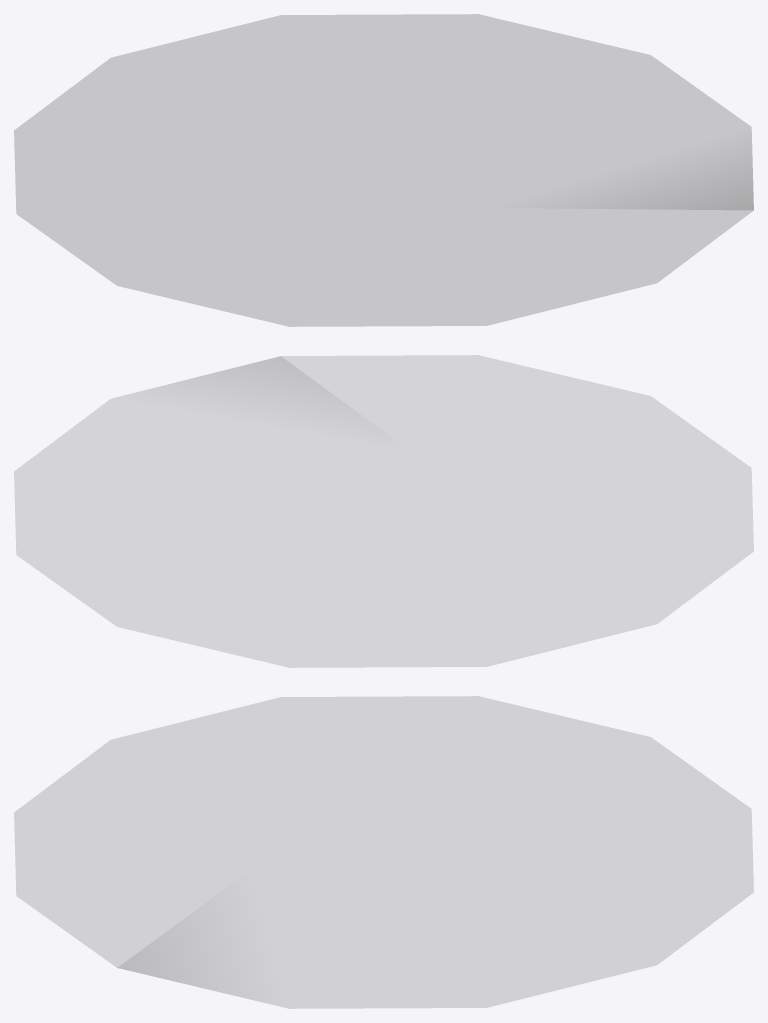
3 views of the same model, one above another, from view 1: azimuth 30°, elevation 25°; view 2: azimuth 150°, elevation 25°; view 3: azimuth 270°, elevation 25° (orthographic).
Visible parts, largest first — view 1: Joint_0_Object_0; view 2: Joint_0_Object_0; view 3: Joint_0_Object_0.
Part boxes in pixels (x1=…): Joint_0_Object_0: x1=14, y1=14, x2=753, y2=326; Joint_0_Object_0: x1=14, y1=355, x2=753, y2=667; Joint_0_Object_0: x1=14, y1=696, x2=753, y2=1008.
Size of the model in its own units: 533 by 1.31 by 533.
1 material, 1 textured.
